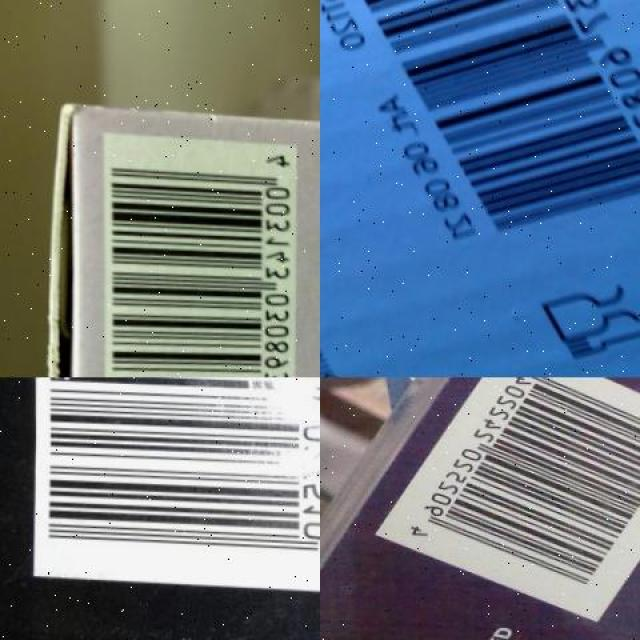Barcode: (320, 0, 640, 252), (370, 377, 640, 623), (31, 377, 320, 588), (100, 131, 297, 377)
